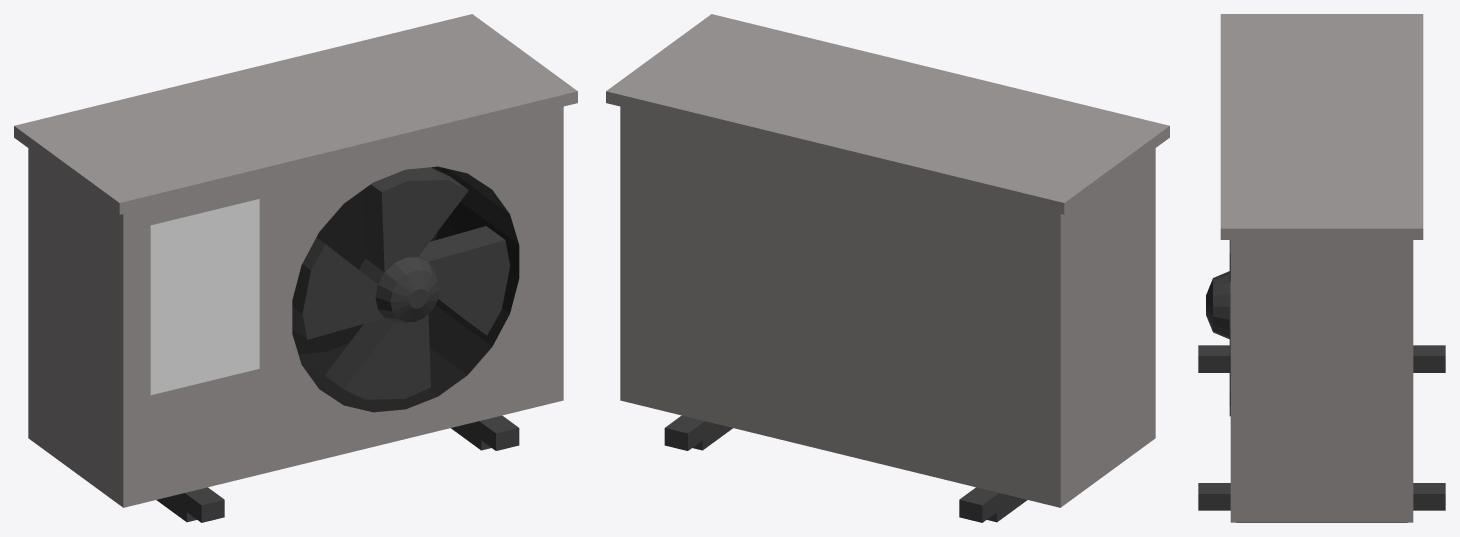
The model's file is AC_outdoor.fbx.
3 renders of one model, left to right at view 1: azimuth 30°, elevation 25°; view 2: azimuth 150°, elevation 25°; view 3: azimuth 270°, elevation 25°, orthographic. The views are drawn at different scales.
Parts seen in each view (by area): view 1: AC outdoor; view 2: AC outdoor; view 3: AC outdoor.
Part boxes in pixels (box(x1,y1,x2,y2)): AC outdoor: box(14, 14, 577, 522); AC outdoor: box(606, 14, 1169, 522); AC outdoor: box(1198, 14, 1445, 522).
Size of the model in its own units: 135 by 96.98 by 65.88.
